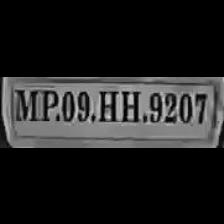0: (58, 86, 76, 120), (177, 88, 193, 124)
2: (161, 88, 177, 124)
7: (192, 88, 209, 124)
9: (72, 86, 92, 122), (144, 88, 162, 124)
H: (94, 85, 118, 123), (118, 86, 140, 122)
M: (12, 82, 38, 120)
P: (40, 86, 56, 122)
